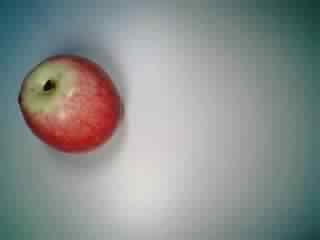apple: (18, 54, 122, 154)
